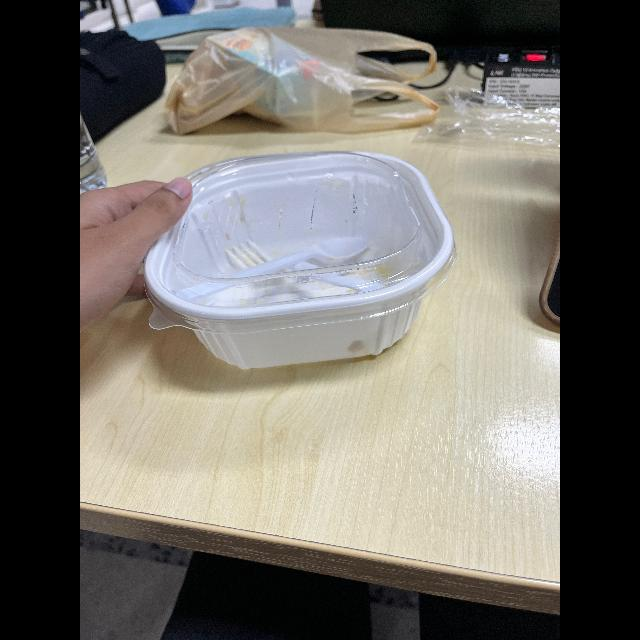plastic_box: (136, 142, 467, 372)
